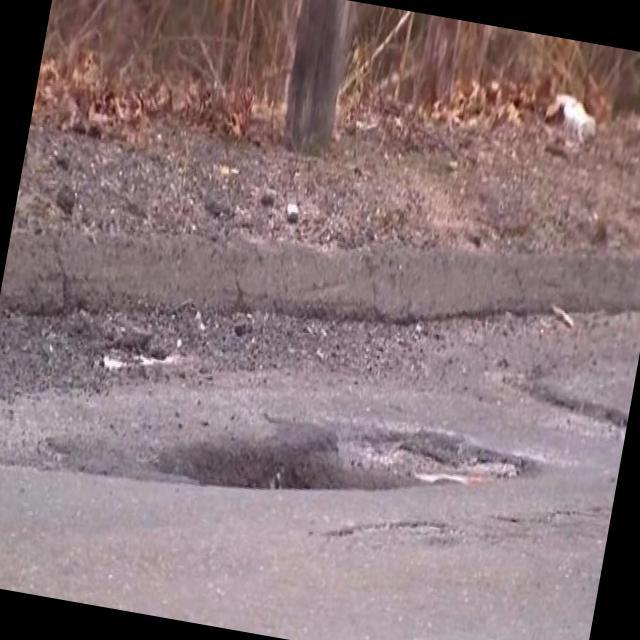Pothole: (88, 348, 548, 532)
